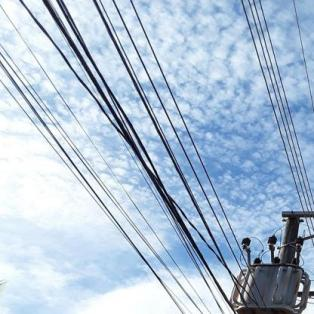Poste: (198, 204, 306, 314)
